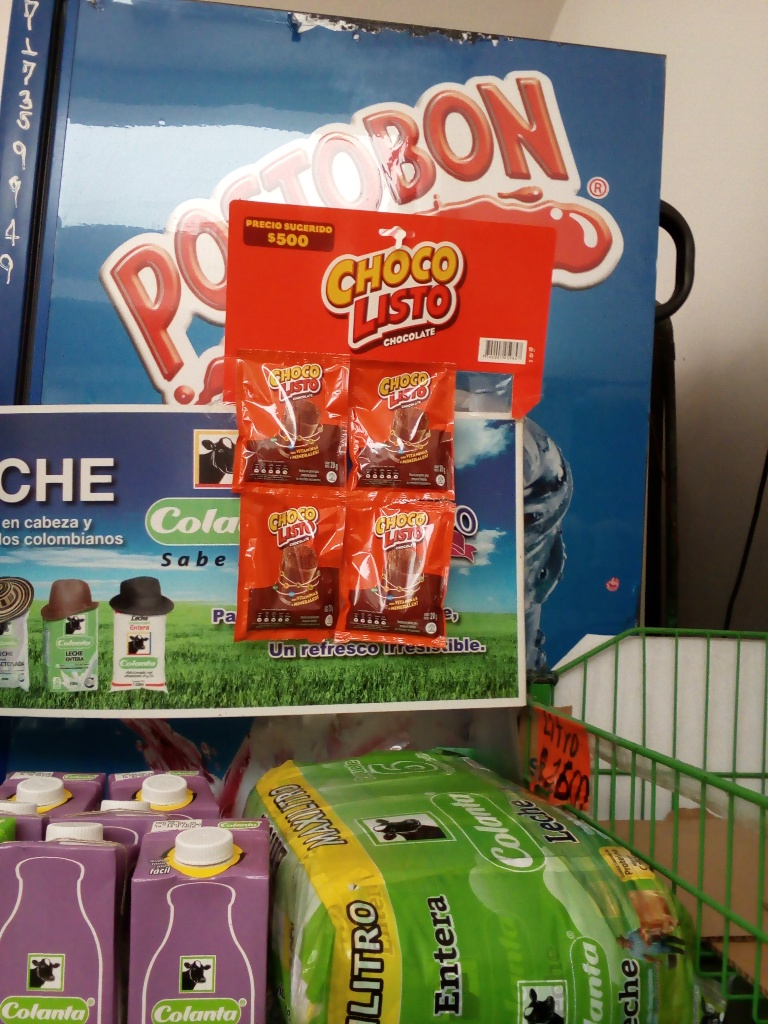COL0170103SOB02000: (239, 344, 347, 494)
